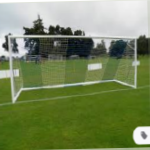goals: (7, 33, 139, 104)
